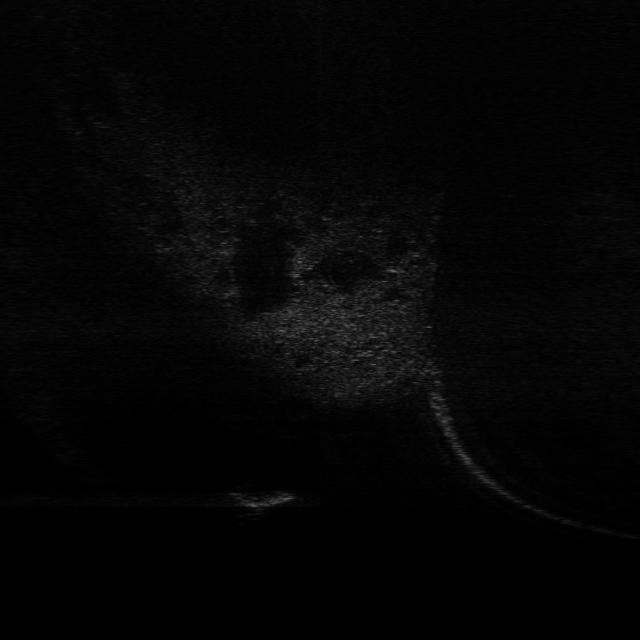cube: (216, 484, 296, 515)
